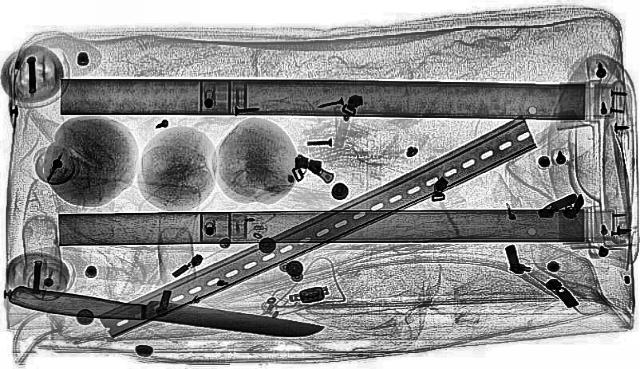Knife: (3, 282, 325, 346)
